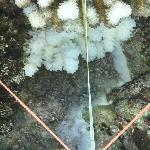alive: (5, 1, 149, 148)
